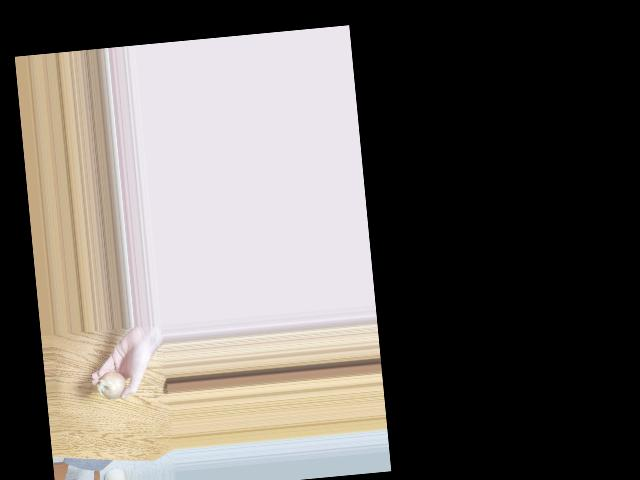onion: (99, 368, 127, 399)
